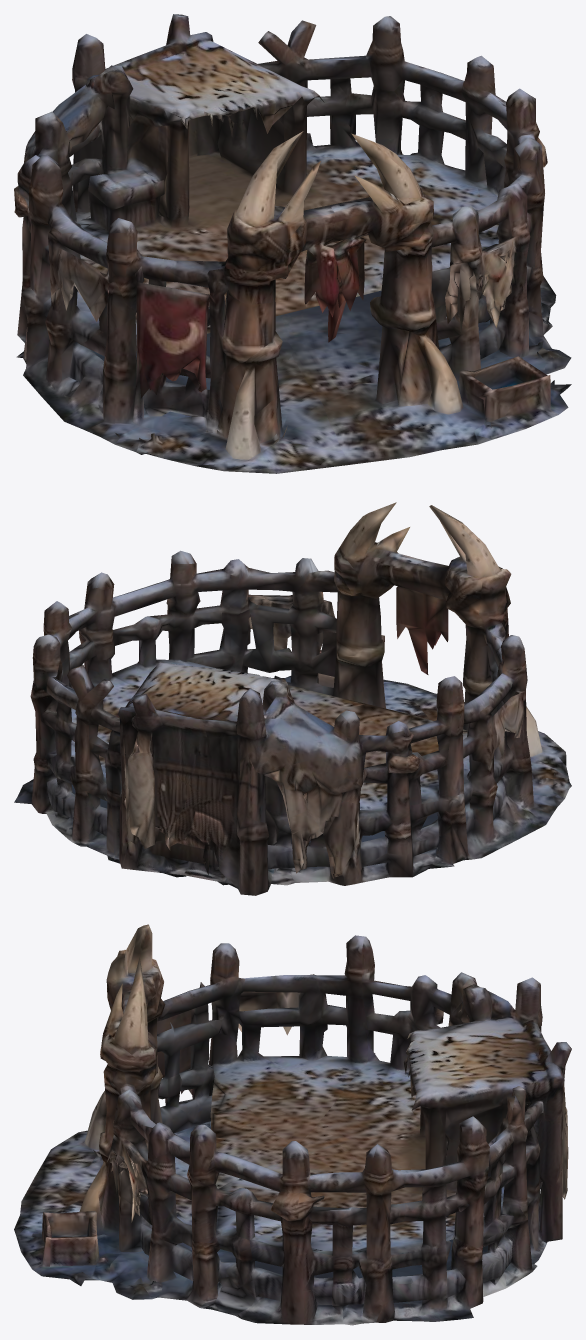
3 views of the same model, one above another, from view 1: azimuth 30°, elevation 25°; view 2: azimuth 150°, elevation 25°; view 3: azimuth 270°, elevation 25° (orthographic). The views are drawn at different scales.
Visible parts, largest first — view 1: tripo_node_9310839c-9334-41dc-93dd-8e1d20f4b09c; view 2: tripo_node_9310839c-9334-41dc-93dd-8e1d20f4b09c; view 3: tripo_node_9310839c-9334-41dc-93dd-8e1d20f4b09c.
Boxes of the visible parts, box(x1,y1,x2,y2) form: tripo_node_9310839c-9334-41dc-93dd-8e1d20f4b09c: box(14, 14, 571, 473); tripo_node_9310839c-9334-41dc-93dd-8e1d20f4b09c: box(14, 502, 571, 895); tripo_node_9310839c-9334-41dc-93dd-8e1d20f4b09c: box(14, 924, 571, 1325).
Bounding box in the file's own units: 3.44 × 1.89 × 3.6.
1 material, 1 textured.
